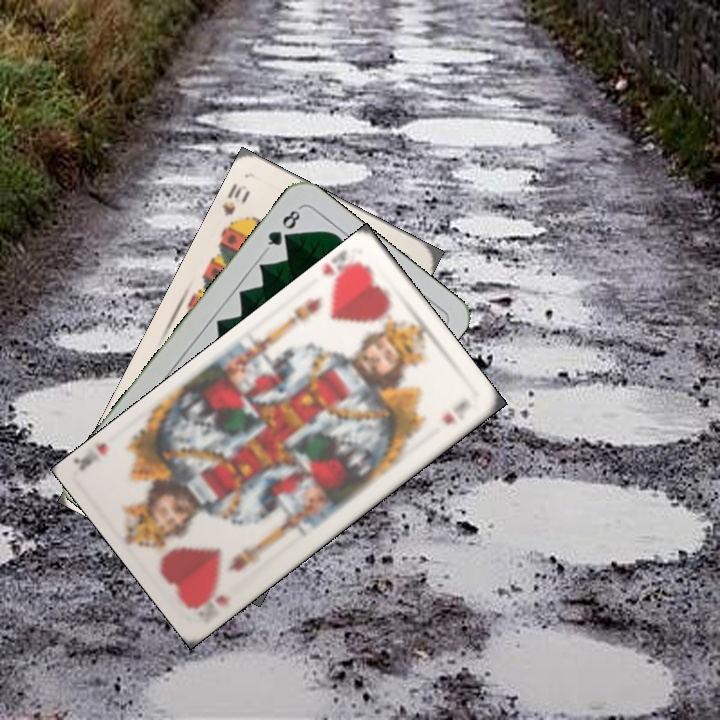G8: (262, 203, 304, 253)
HK: (318, 248, 365, 291), (190, 581, 233, 626)
S10: (218, 179, 253, 233)
